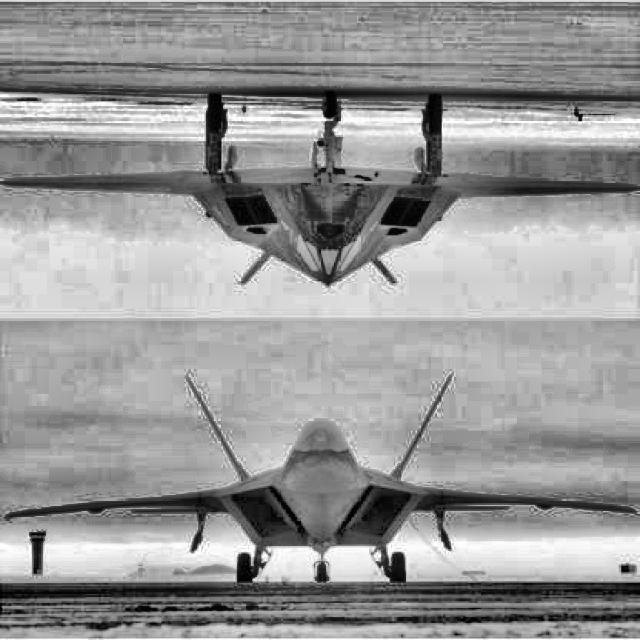F117: (1, 88, 639, 290)
F22: (6, 372, 636, 580)
